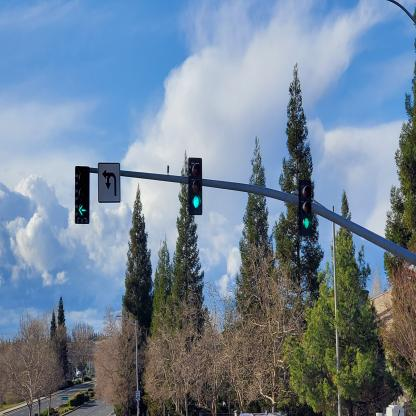green: (189, 158, 202, 214), (299, 179, 312, 234)
left-green: (76, 166, 90, 224)
